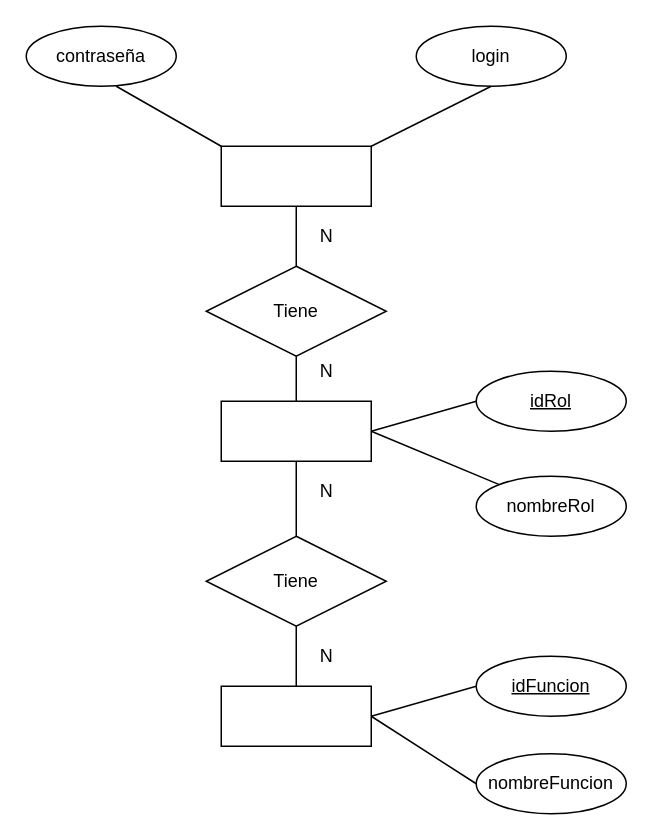
Image size: 653x840. Some labels were removed from this diagram. Here are the shapes that lost their labels. From the top down, the centre of each, then its label:
[295,175]: Usuarios
[295,430]: Roles
[295,715]: Privilegios (Funciones)
